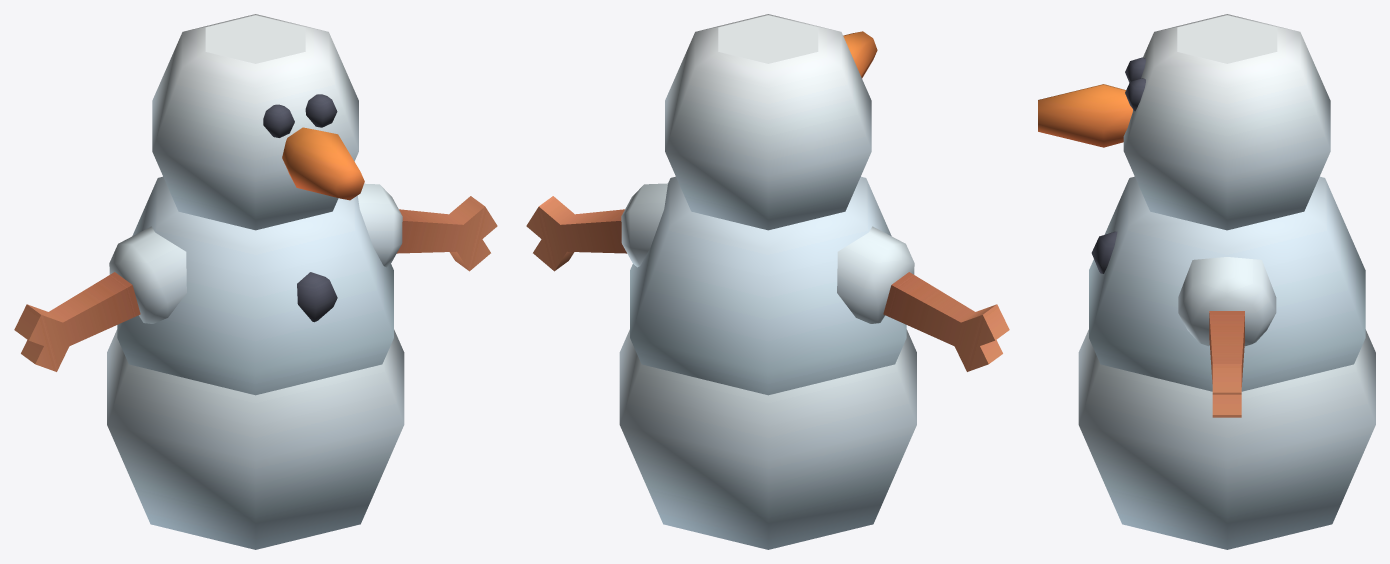
Rendered from snowman.glb.
3 views of the same model, side by side, from view 1: azimuth 30°, elevation 25°; view 2: azimuth 150°, elevation 25°; view 3: azimuth 270°, elevation 25° (orthographic).
Parts seen in each view (by area): view 1: snowman; view 2: snowman; view 3: snowman.
Boxes of the visible parts, x1,y1,x2,y2 form: snowman: [14, 14, 497, 549]; snowman: [526, 14, 1009, 549]; snowman: [1038, 14, 1375, 549].
Size of the model in its own units: 1.1 by 1.06 by 0.6881.
1 material, 1 textured.
